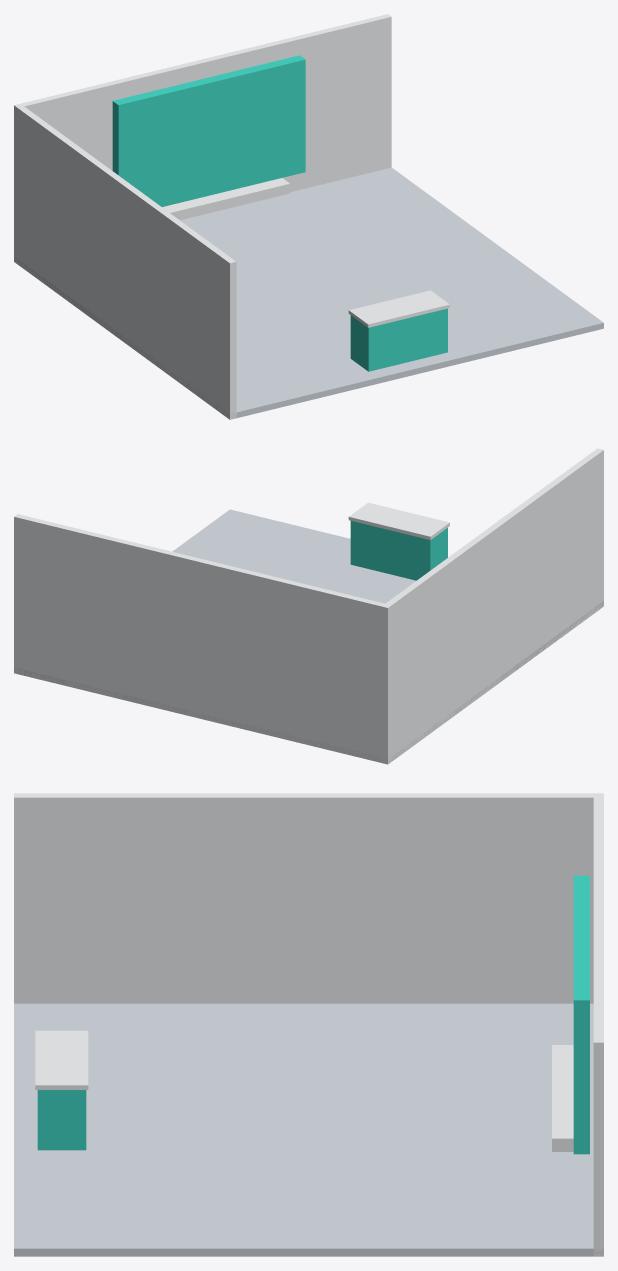
3 views of the same model, one above another, from view 1: azimuth 30°, elevation 25°; view 2: azimuth 150°, elevation 25°; view 3: azimuth 270°, elevation 25° (orthographic). The views are drawn at different scales.
Visible parts, largest first — view 1: Exhibition Booth Concept; view 2: Exhibition Booth Concept; view 3: Exhibition Booth Concept.
Part boxes in pixels (x1,y1,x2,y2): Exhibition Booth Concept: (14, 14, 603, 419); Exhibition Booth Concept: (14, 448, 603, 764); Exhibition Booth Concept: (14, 793, 603, 1256).
Bounding box in the file's own units: 8 × 3.2 × 8.
